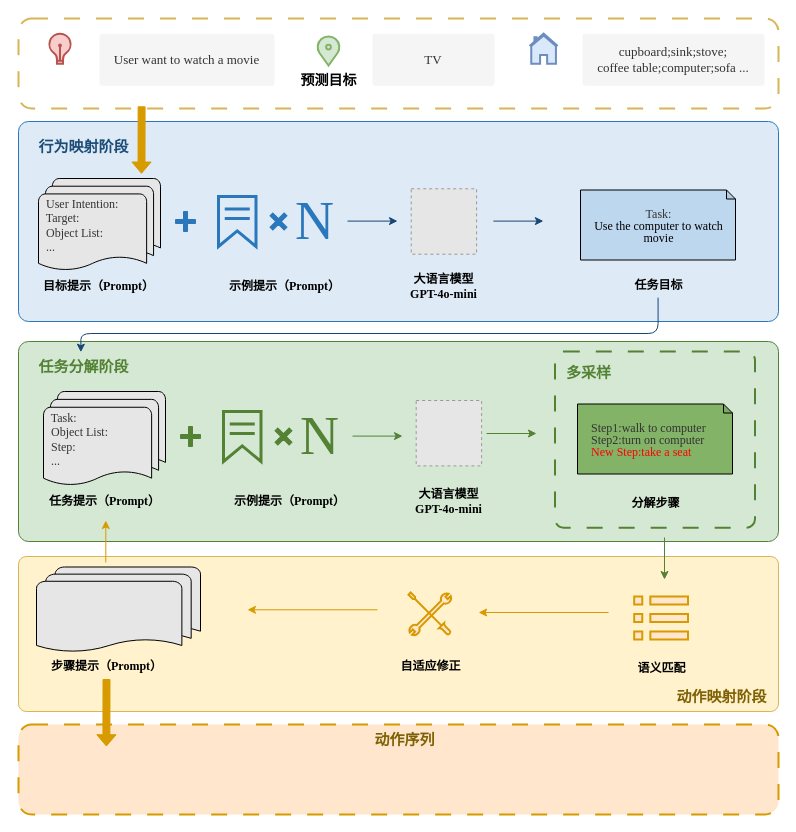
Image size: 796x832. Some labels were removed from this diagram. Grey dashed boxes stand in for pictures. The shapes that lost their labels are listed below. From the top down, each one's box as (x1, y1, x2, y2) in pixels, then its label:
(47, 32, 72, 64): 用户意图
(528, 32, 558, 64): 环境物体
(36, 566, 200, 653): Step1:walk to computer Step2:turn on computer Step3:sit on the chair
(17, 723, 779, 815): Step1:walk to computer Step2:turn on computer Step3:sit on the chair ...
